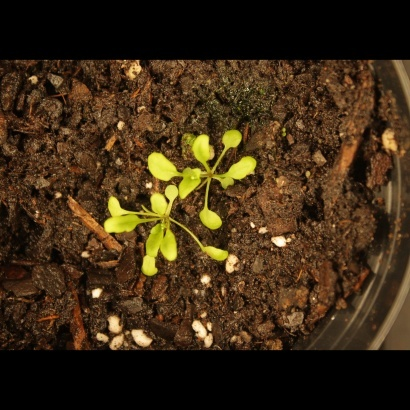leaf: (145, 148, 178, 180), (197, 241, 233, 269), (97, 191, 130, 219), (226, 154, 259, 182), (161, 225, 184, 265), (178, 166, 204, 200), (102, 213, 140, 236), (217, 122, 248, 149), (141, 224, 164, 260), (190, 131, 214, 165), (144, 189, 170, 219), (198, 205, 227, 231), (139, 255, 162, 279), (158, 183, 181, 206), (219, 176, 242, 199)
